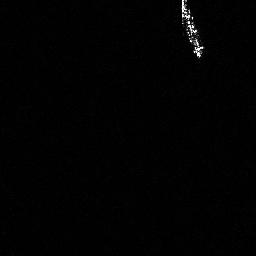ship: (177, 1, 207, 61)
